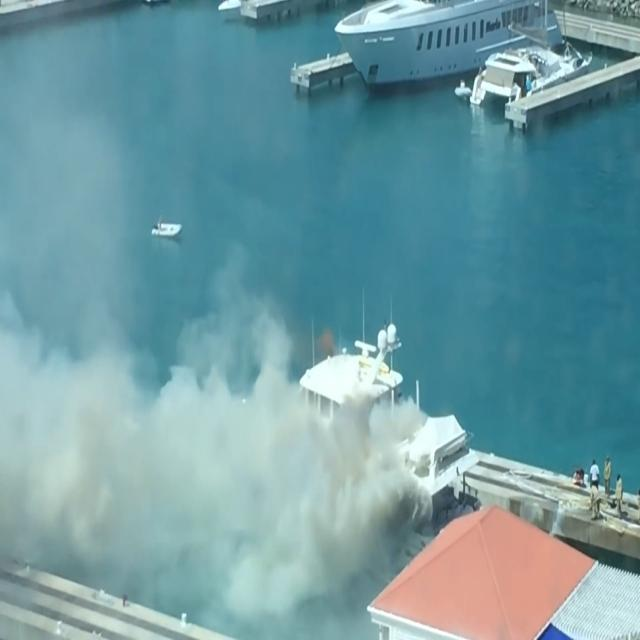smoke: (90, 363, 262, 563), (2, 356, 108, 581), (252, 397, 378, 567)
